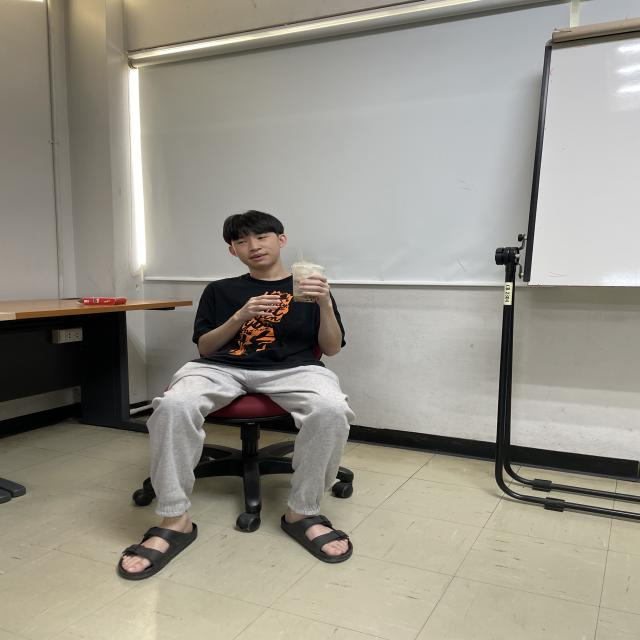cup: (290, 262, 326, 304)
